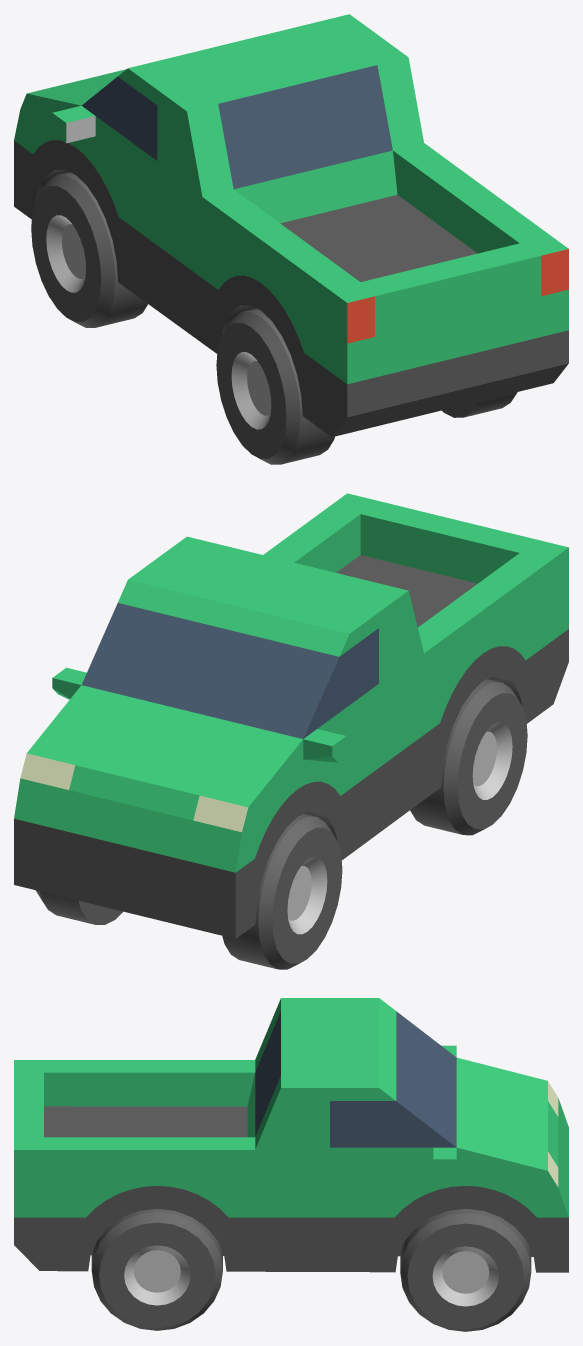
File: carTruck.fbx
The picture shows the model from 3 angles, top to bottom: view 1: azimuth 30°, elevation 25°; view 2: azimuth 150°, elevation 25°; view 3: azimuth 270°, elevation 25°; orthographic projection. The views are drawn at different scales.
Visible parts, largest first — view 1: body 14, wheelBackLeft 14, wheelFrontLeft 14, wheelBackRight 14; view 2: body 14, wheelBackLeft 14, wheelFrontLeft 14, wheelFrontRight 14; view 3: body 14, wheelFrontRight 14, wheelBackRight 14.
Boxes of the visible parts, x1,y1,x2,y2 form: body 14: [14, 14, 568, 436]; wheelBackLeft 14: [216, 308, 334, 464]; wheelFrontLeft 14: [31, 172, 147, 327]; wheelBackRight 14: [442, 392, 517, 417]; body 14: [14, 493, 568, 938]; wheelBackLeft 14: [410, 679, 527, 835]; wheelFrontLeft 14: [222, 814, 342, 969]; wheelFrontRight 14: [36, 890, 122, 924]; body 14: [14, 998, 568, 1272]; wheelFrontRight 14: [400, 1209, 531, 1331]; wheelBackRight 14: [91, 1209, 222, 1330].
Size of the model in its own units: 5.75 by 5.77 by 11.85.
